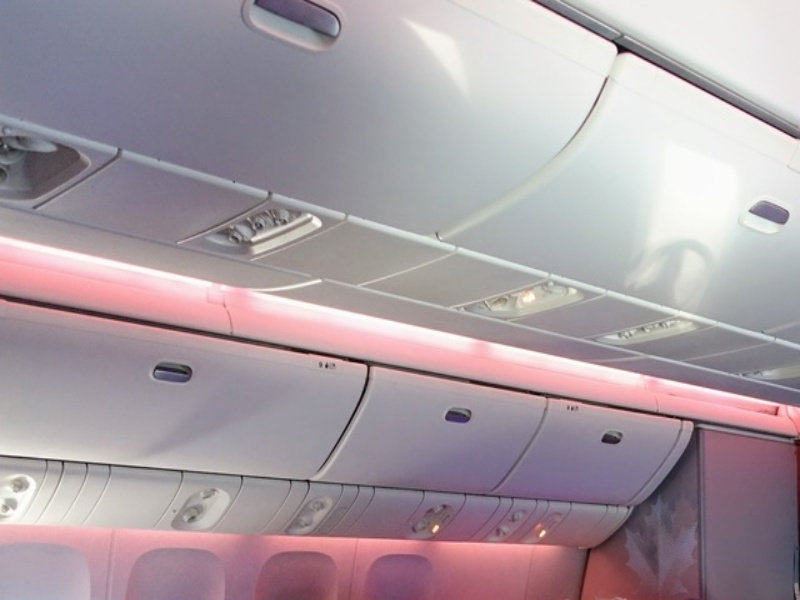close_bin: (1, 8, 614, 259), (442, 1, 781, 333)
